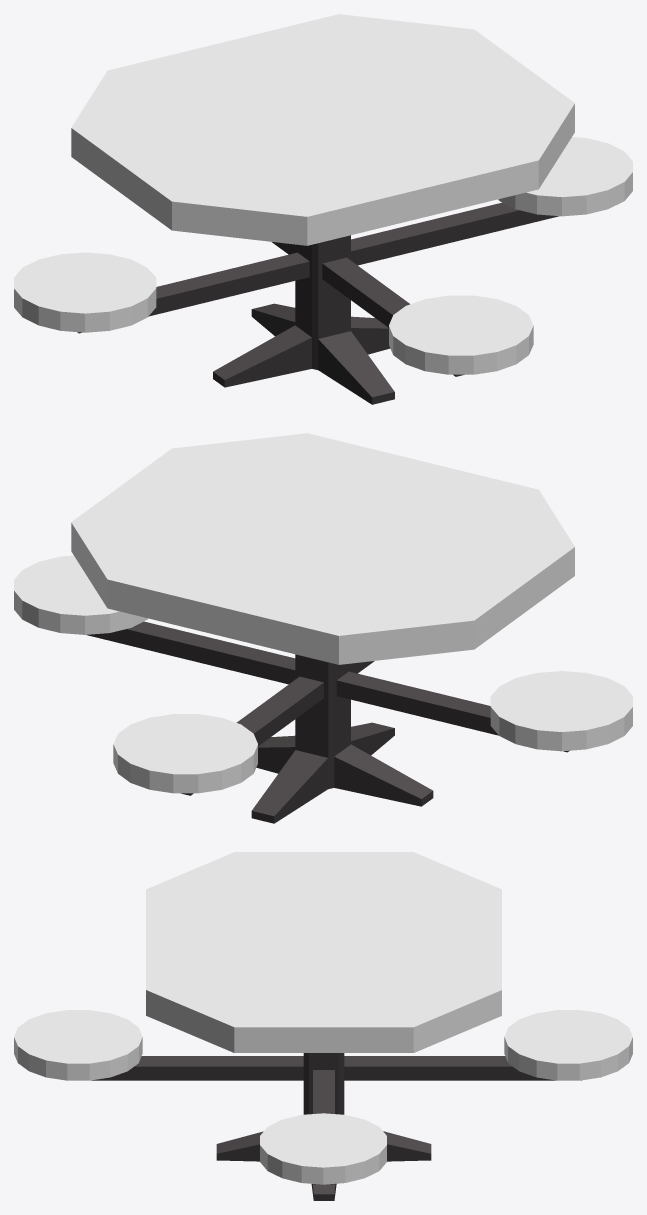
Rendered from table1.fbx.
3 views of the same model, one above another, from view 1: azimuth 30°, elevation 25°; view 2: azimuth 150°, elevation 25°; view 3: azimuth 270°, elevation 25° (orthographic). The views are drawn at different scales.
Parts seen in each view (by area): view 1: table; view 2: table; view 3: table.
Boxes of the visible parts, box(x1,y1,x2,y2) form: table: box(14, 14, 632, 404); table: box(14, 433, 632, 823); table: box(14, 852, 632, 1200).
Size of the model in its own units: 126 by 48.54 by 126.
